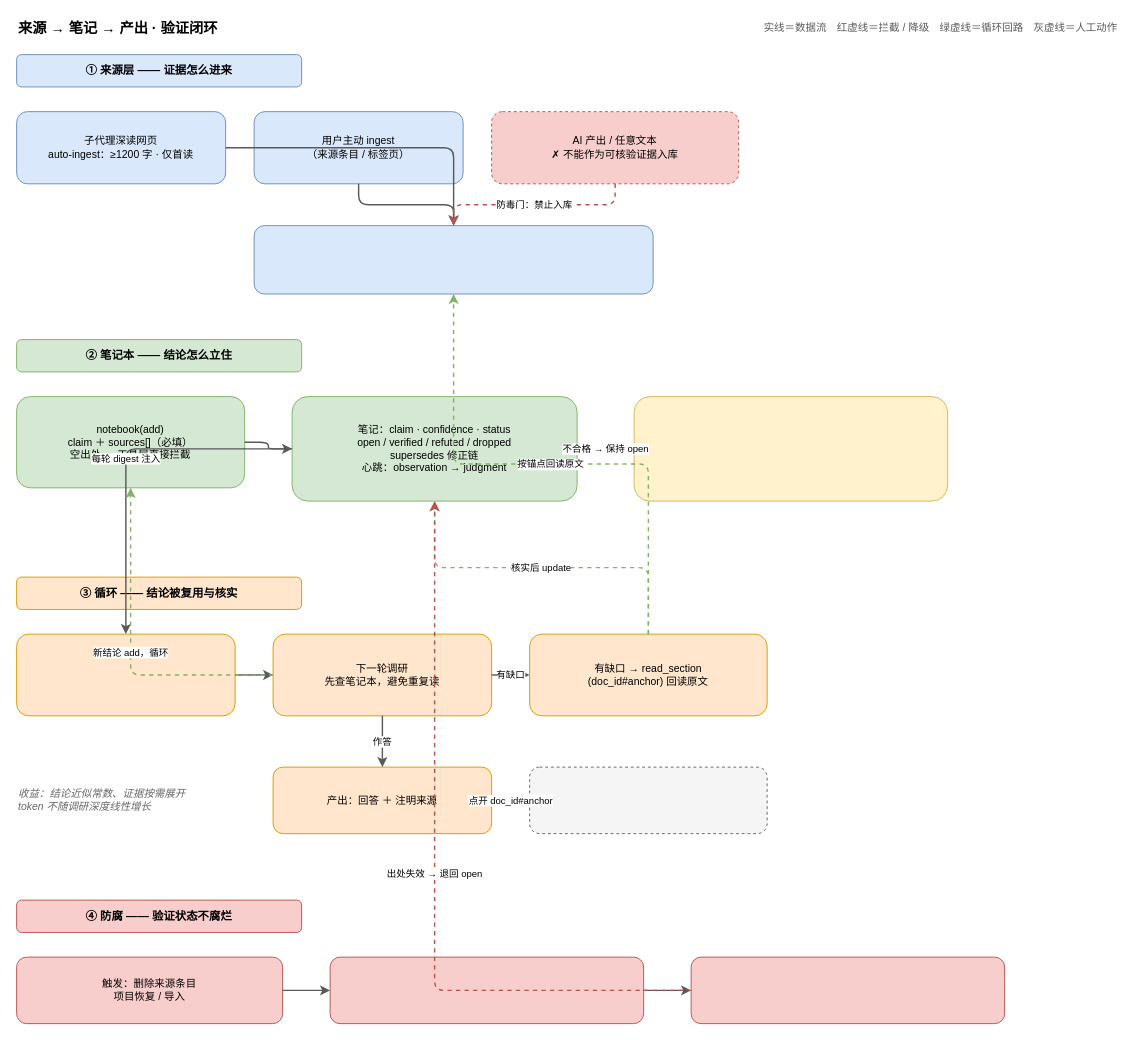
Some shapes in this 1135 by 1040 pixel diagram are drawn without their labels. The shapes that lost their labels are listed below. From the top down, each one's box as (x1, y1, x2, y2) in pixels, then its label:
(253, 225, 653, 294): 证据库 artifact（IDB） doc_id ＋ 分块锚点 doc_id#cN
(633, 396, 948, 501): verified 门（canVerifySources） doc 存在 · 本项目 · trustClass=source ⚠ 只查引注格式，≠ 内容属实
(16, 633, 235, 716): digest 每轮注入提示词 （1600 字上限，超出指向 list）
(529, 766, 767, 834): 真伪终审：点开锚点亲眼看 （机器只能查格式）
(329, 956, 644, 1024): 机制：级联删 artifact ＋ 原件 逐条重验出处（revalidateNotes）
(690, 956, 1005, 1024): 效果：verified 退回 open history 留痕
